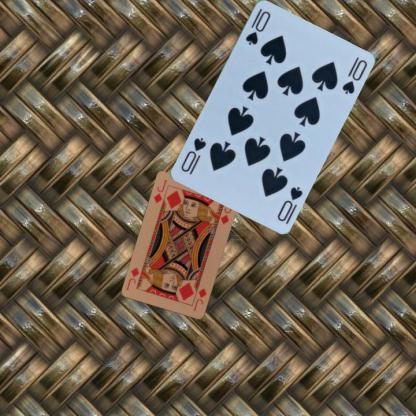10s: (242, 5, 272, 46), (274, 183, 304, 223)
Jd: (191, 286, 208, 312), (152, 178, 168, 204)
